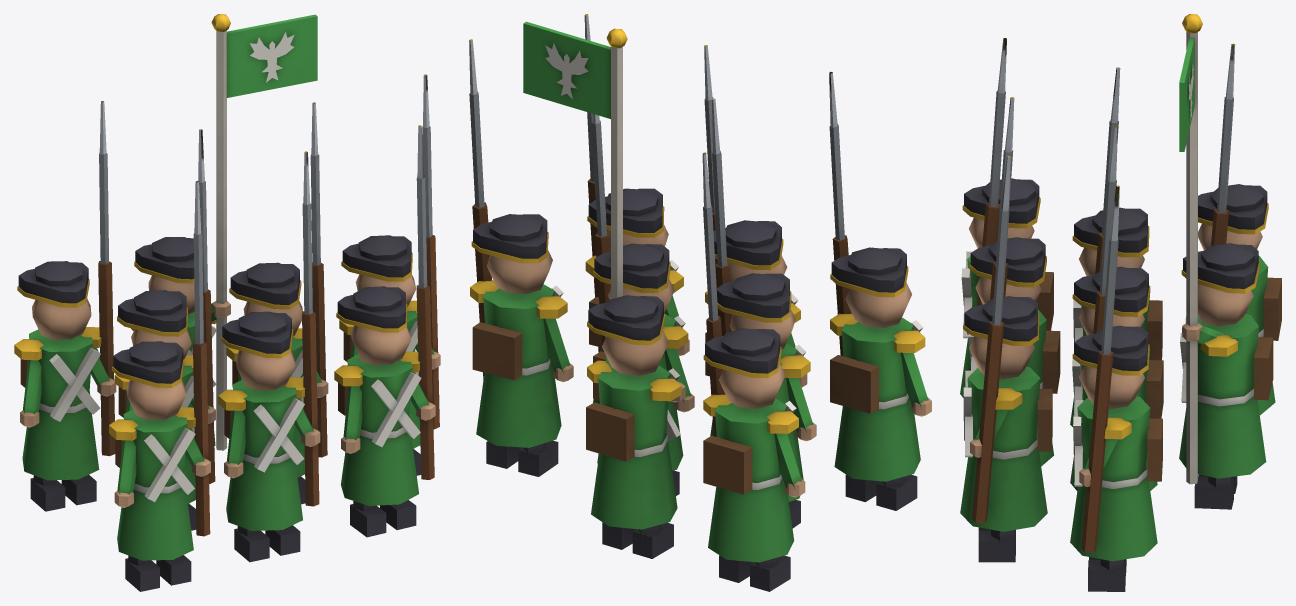
The model's file is squad_dl4_green.glb.
3 views of the same model, side by side, from view 1: azimuth 30°, elevation 25°; view 2: azimuth 150°, elevation 25°; view 3: azimuth 270°, elevation 25° (orthographic). The views are drawn at different scales.
Visible parts, largest first — view 1: squad_dl4_green; view 2: squad_dl4_green; view 3: squad_dl4_green.
Boxes of the visible parts, x1=… form: squad_dl4_green: x1=14, y1=14, x2=440, y2=591; squad_dl4_green: x1=469, y1=14, x2=931, y2=591; squad_dl4_green: x1=960, y1=14, x2=1281, y2=591.
Bounding box in the file's own units: 0.657 × 0.7866 × 0.4609.
1 material, 1 textured.
